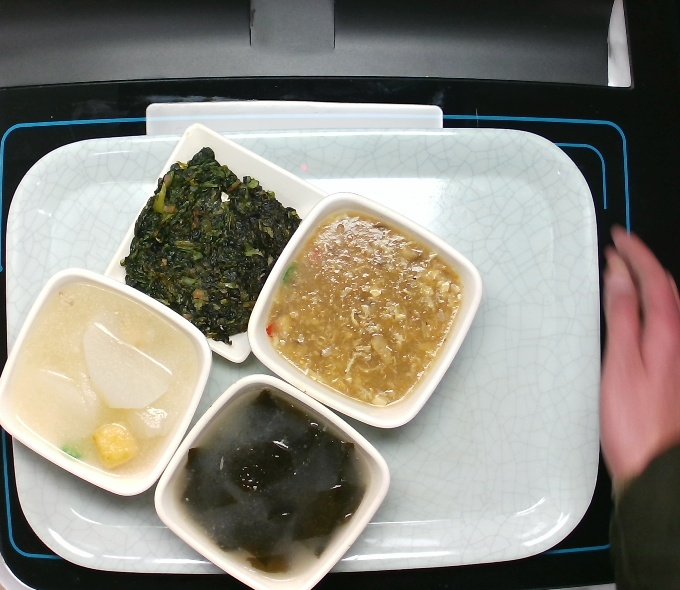wcq-HaiDaiPaiGuTang: (197, 402, 360, 560)
wcq-LuoBoYouPaoTang: (23, 307, 181, 473)
wcq-QinCaiBing: (133, 148, 294, 326)
wcq-SuanLaGeng: (281, 237, 448, 384)
